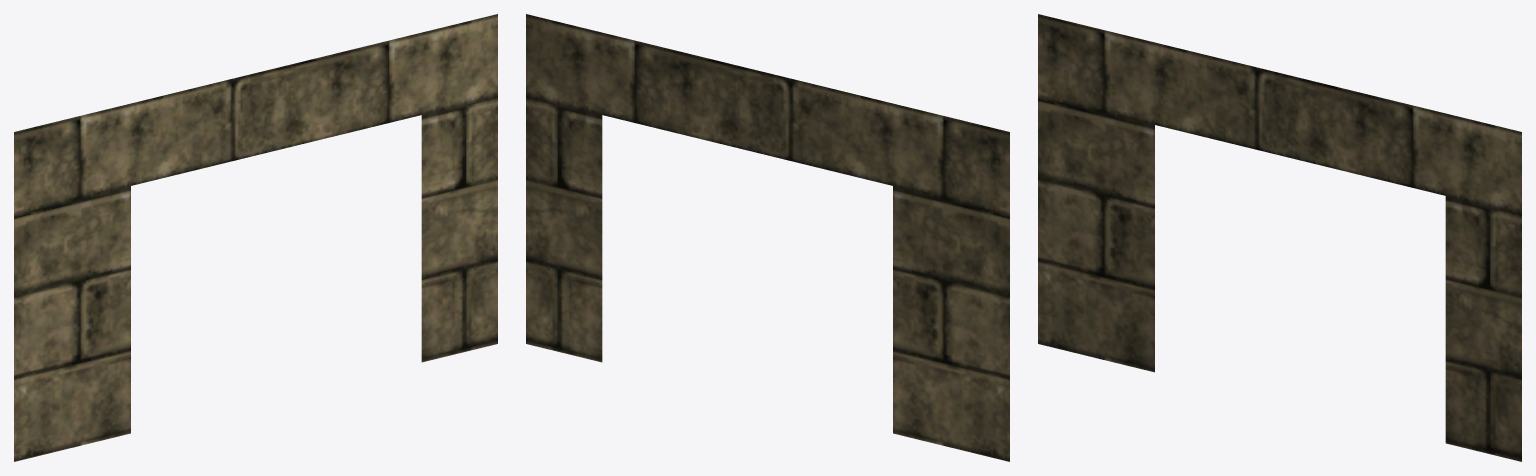
Rendered from OVERHILL_A_01_OBJECT132.fbx.
3 views of the same model, side by side, from view 1: azimuth 30°, elevation 25°; view 2: azimuth 150°, elevation 25°; view 3: azimuth 330°, elevation 25° (orthographic).
Parts seen in each view (by area): view 1: OVERHILL_A_01_OBJECT132; view 2: OVERHILL_A_01_OBJECT132; view 3: OVERHILL_A_01_OBJECT132.
Part boxes in pixels (<box>): OVERHILL_A_01_OBJECT132: <box>14,14,497,461</box>; OVERHILL_A_01_OBJECT132: <box>526,14,1009,461</box>; OVERHILL_A_01_OBJECT132: <box>1038,14,1521,461</box>.
Size of the model in its own units: 52745 by 34378 by 0.1033.
Materials: 1 (1 with a texture image).
